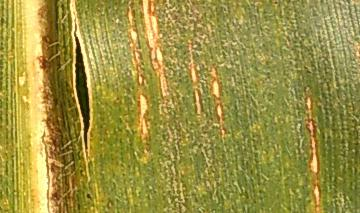tarspot: (83, 191, 94, 203)
